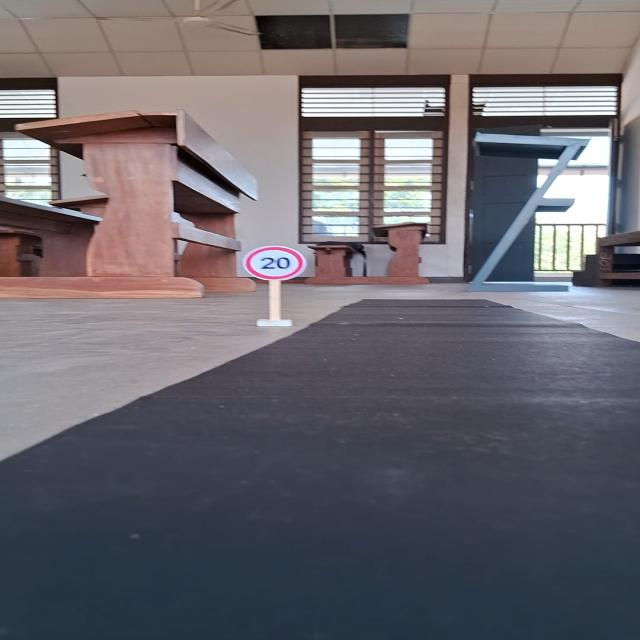Speed20: (240, 242, 310, 283)
